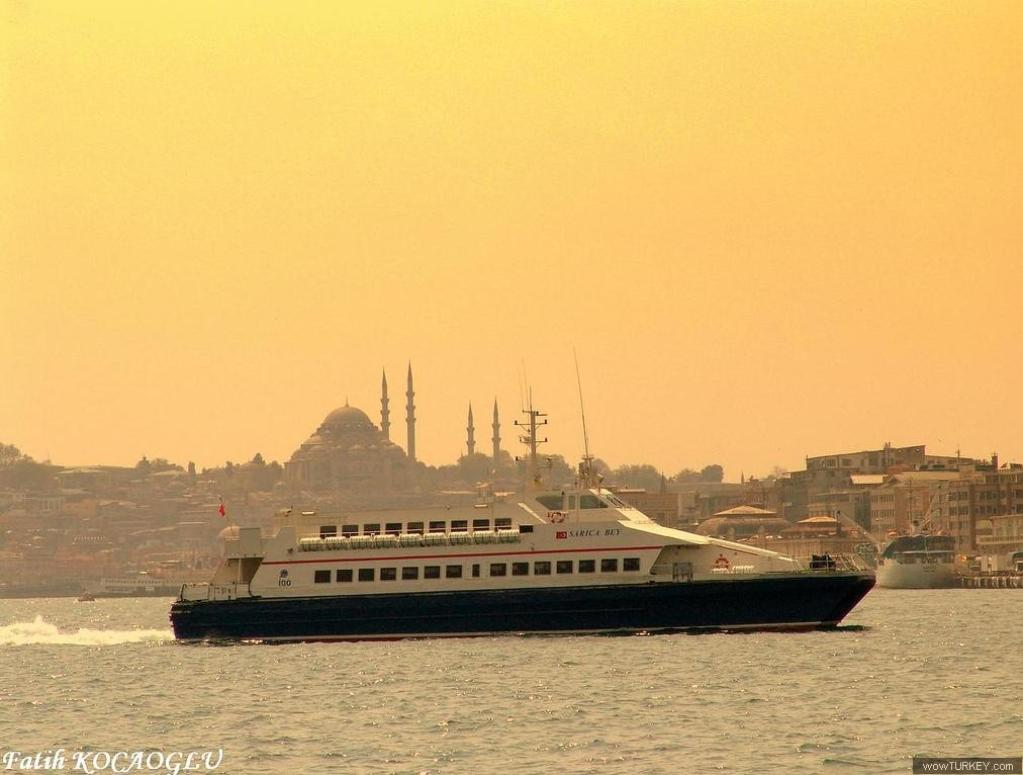PassengerShip: (166, 378, 882, 642)
